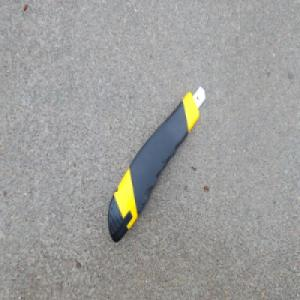Cutter: (108, 83, 207, 242)
